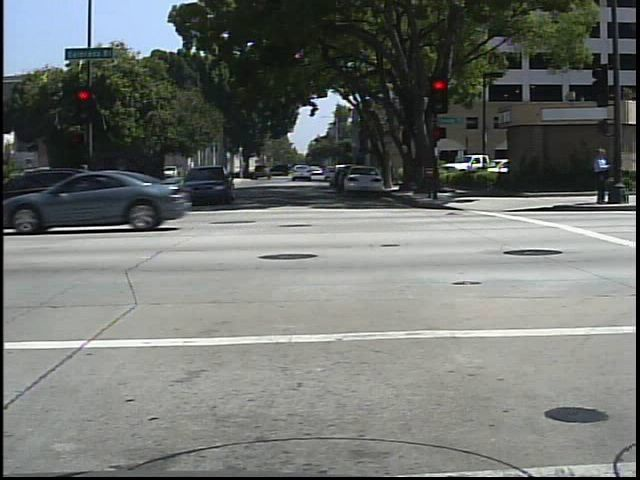person: (68, 158, 99, 222), (588, 144, 614, 209)
